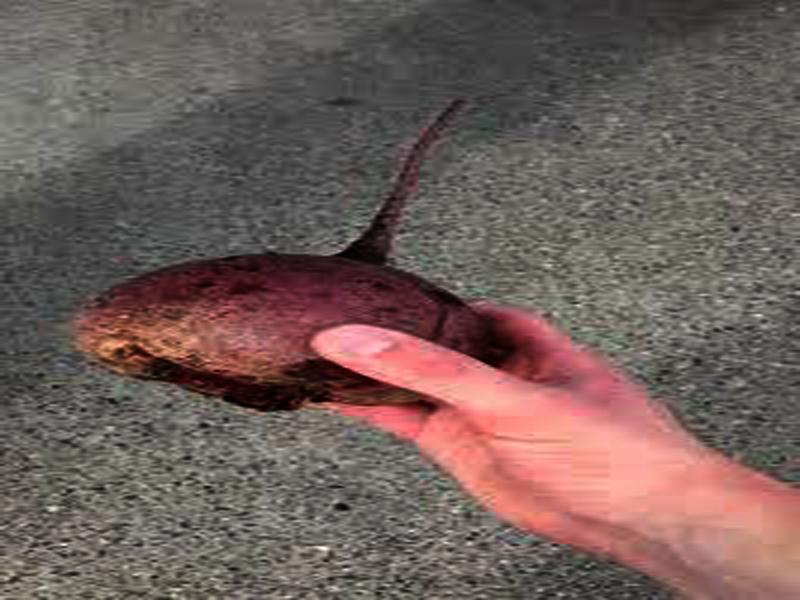Beet: (75, 100, 480, 410)
